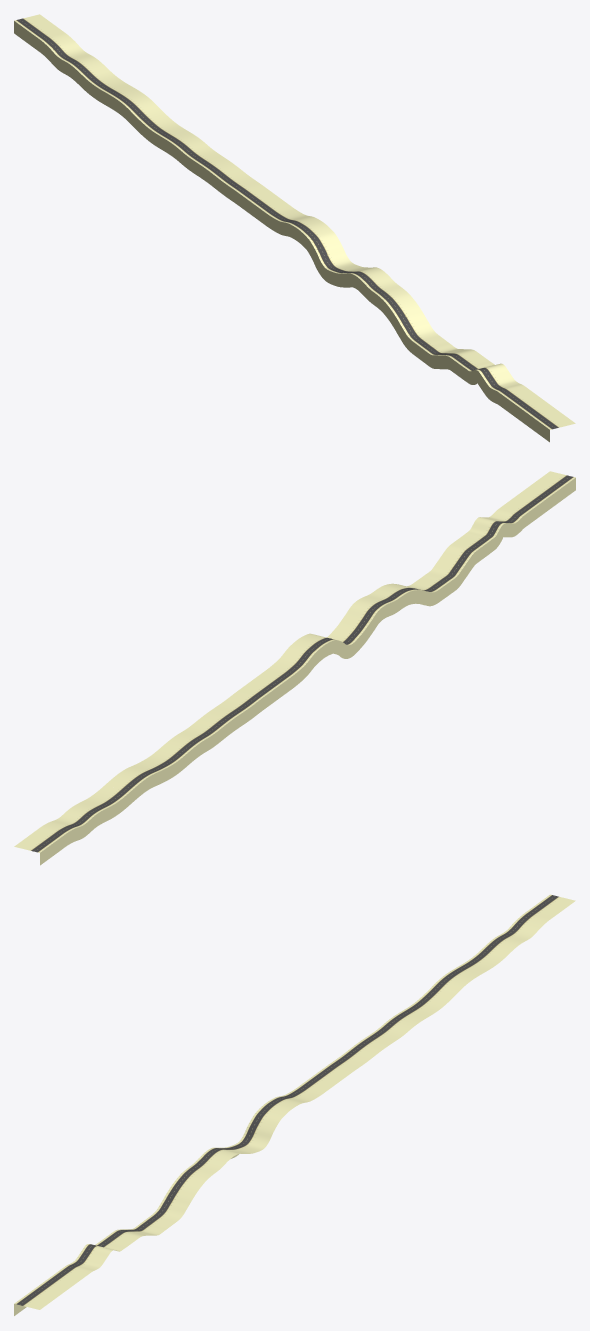
Rendered from track 5.fbx.
3 views of the same model, one above another, from view 1: azimuth 30°, elevation 25°; view 2: azimuth 150°, elevation 25°; view 3: azimuth 330°, elevation 25° (orthographic).
Visible parts, largest first — view 1: Cube.005, Cube.006; view 2: Cube.005, Cube.006; view 3: Cube.005, Cube.006.
Boxes of the visible parts, box(x1,y1,x2,y2) form: Cube.005: box(14, 14, 575, 442); Cube.006: box(16, 18, 559, 429); Cube.005: box(14, 471, 575, 865); Cube.006: box(30, 475, 573, 852); Cube.005: box(14, 894, 575, 1315); Cube.006: box(16, 895, 559, 1305).
Size of the model in its own units: 1521 by 2356 by 54541.
1 material, 1 textured.
